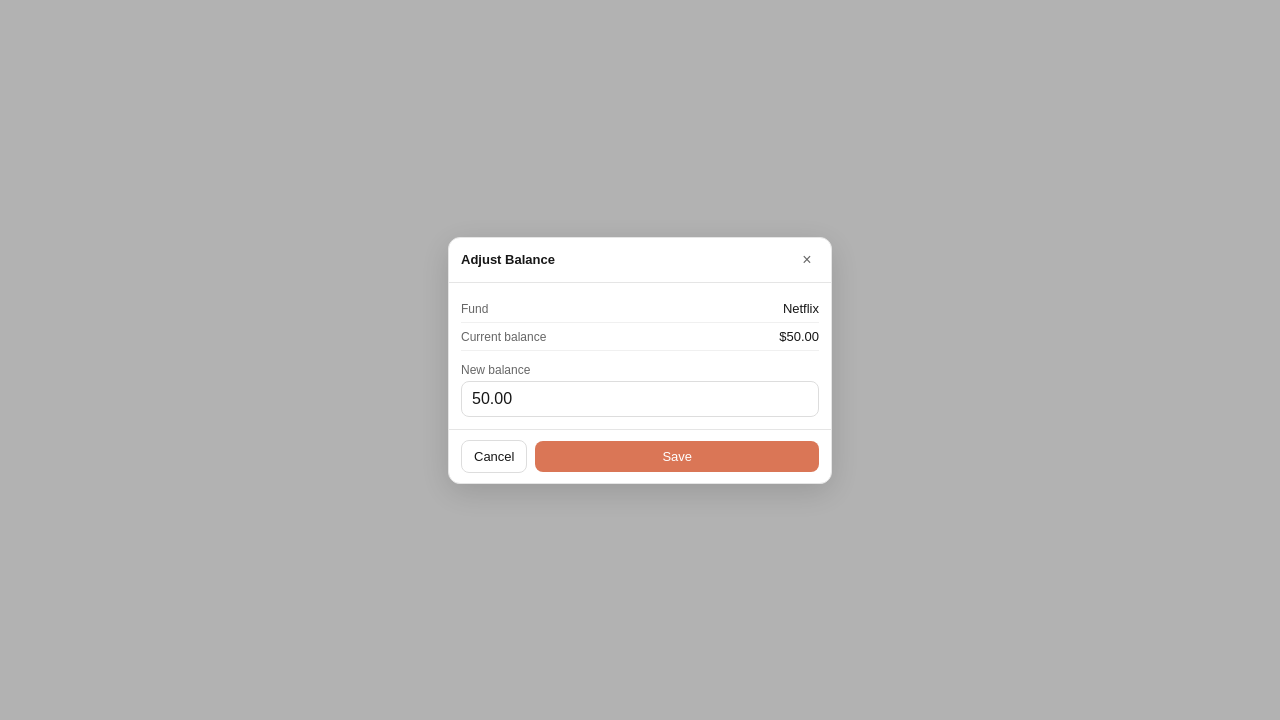
AdjustBalanceModal › validates non-numeric input
Clear the number field with test id "adjust-balance-modal-input" at (640, 398), box left=461, top=380, right=819, bottom=416
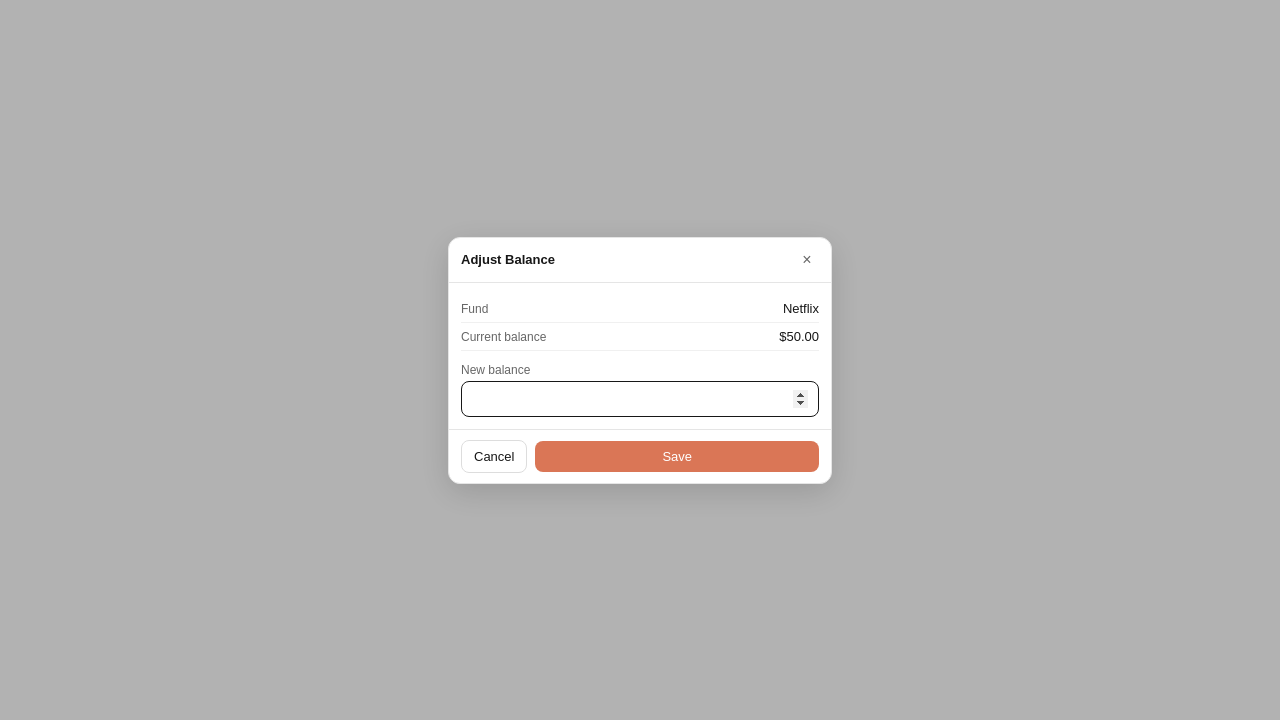
Click the button with test id "adjust-balance-modal-save" at (677, 456), box left=536, top=440, right=819, bottom=472
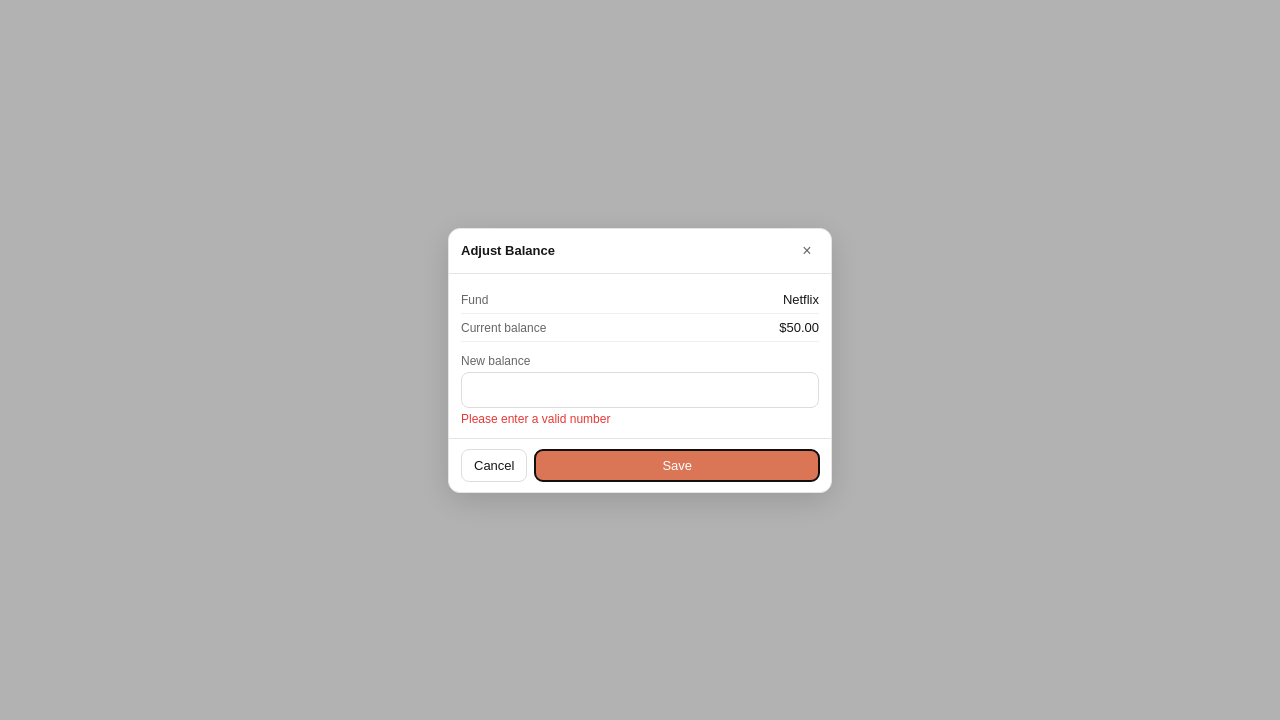
Expected: the text with test id "adjust-balance-modal-validation-error" reads "Please enter a valid number", left=461, top=412, right=610, bottom=426
